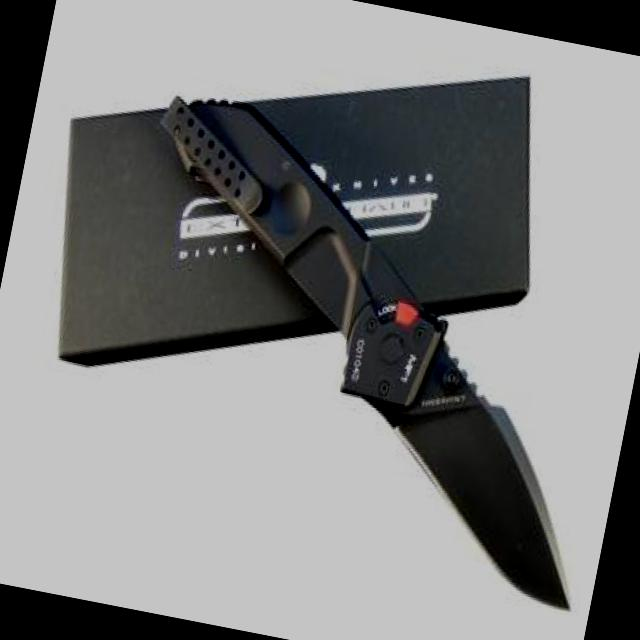knife: (341, 328, 620, 616)
